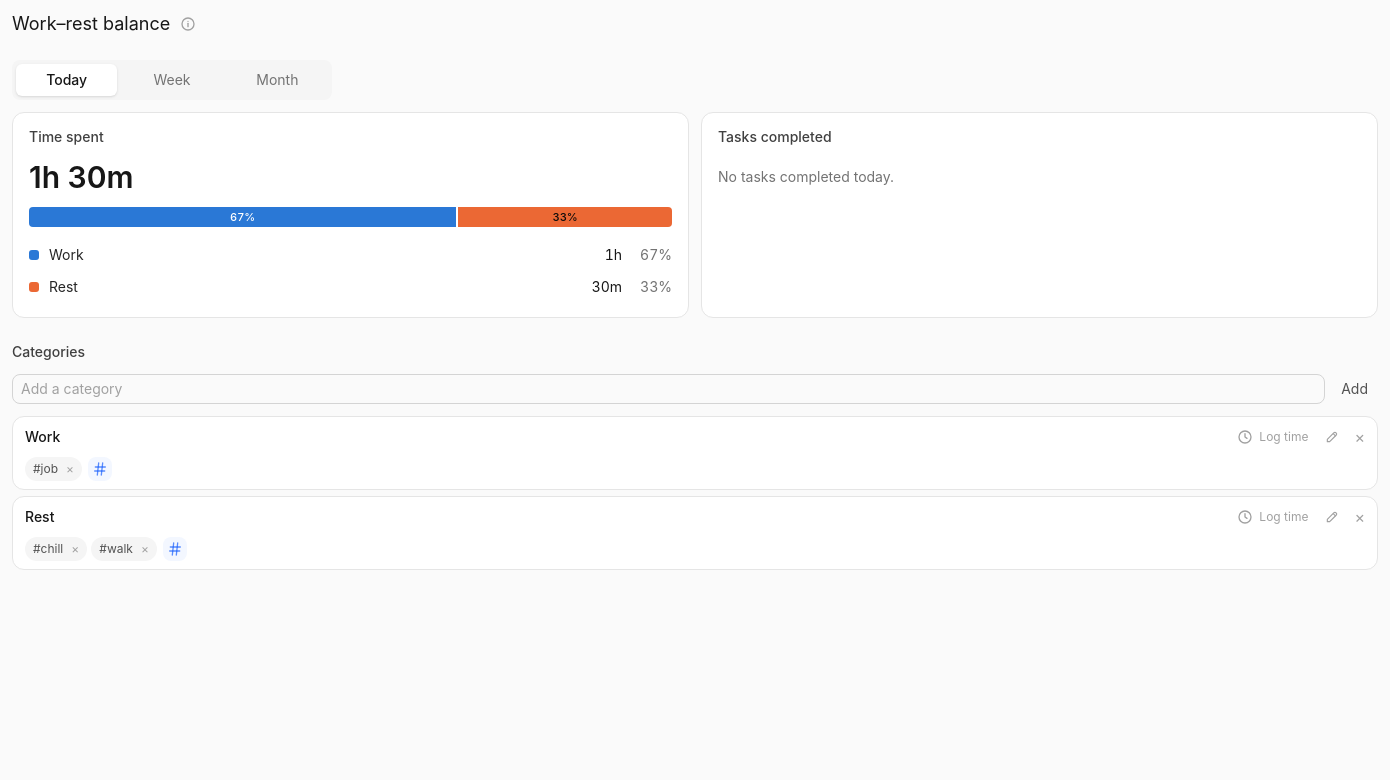
Test case: the sessions behind a piece (BAL-16) › lists nothing until a piece is pressed, and puts the list away when it is pressed again
The width and height of the screenshot is (1390, 780).
Expected: the element "Time logged to" is not shown
Hover over the button "Rest 30m 33%" at (607, 286), box [21,271,680,303]
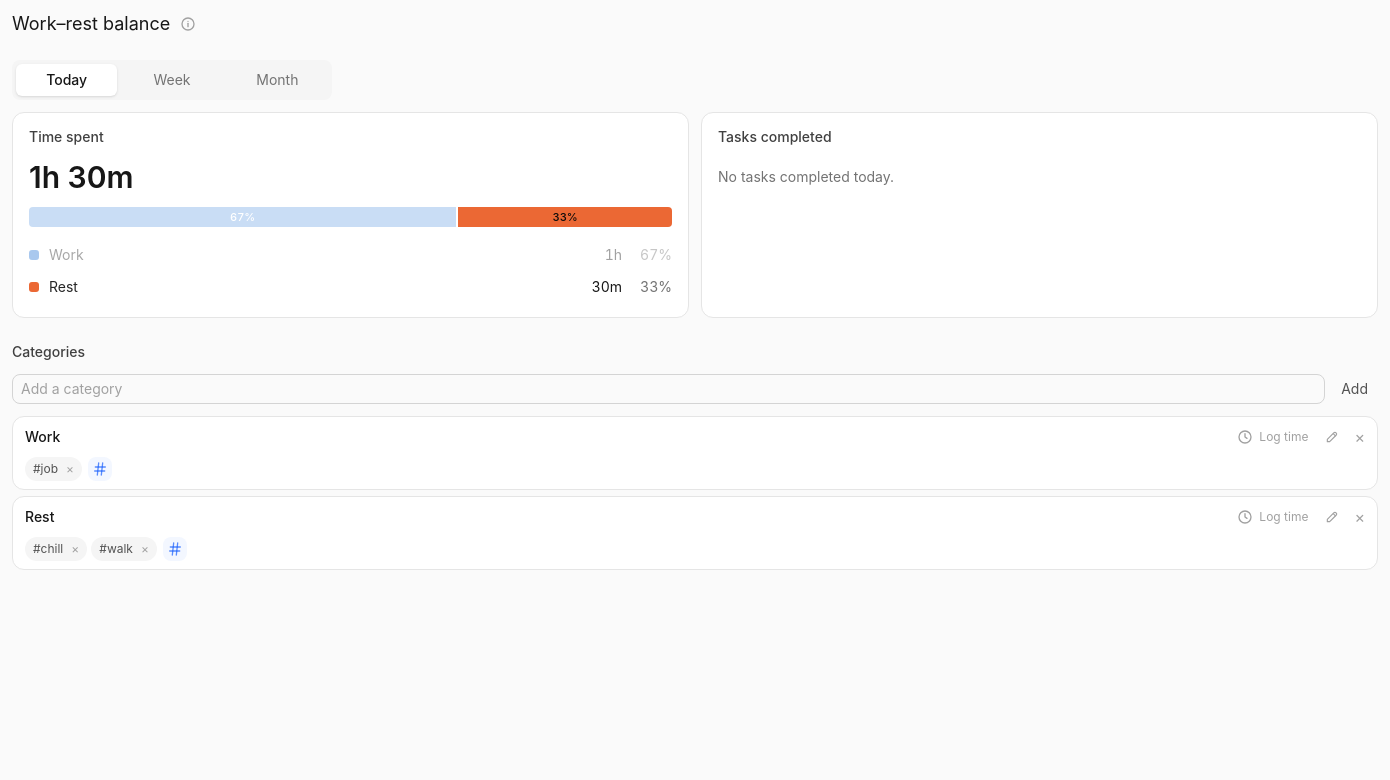
Expected: the list "Time logged to Rest" is not shown
Click the button "Rest 30m 33%" at (607, 286), box [21,271,680,303]
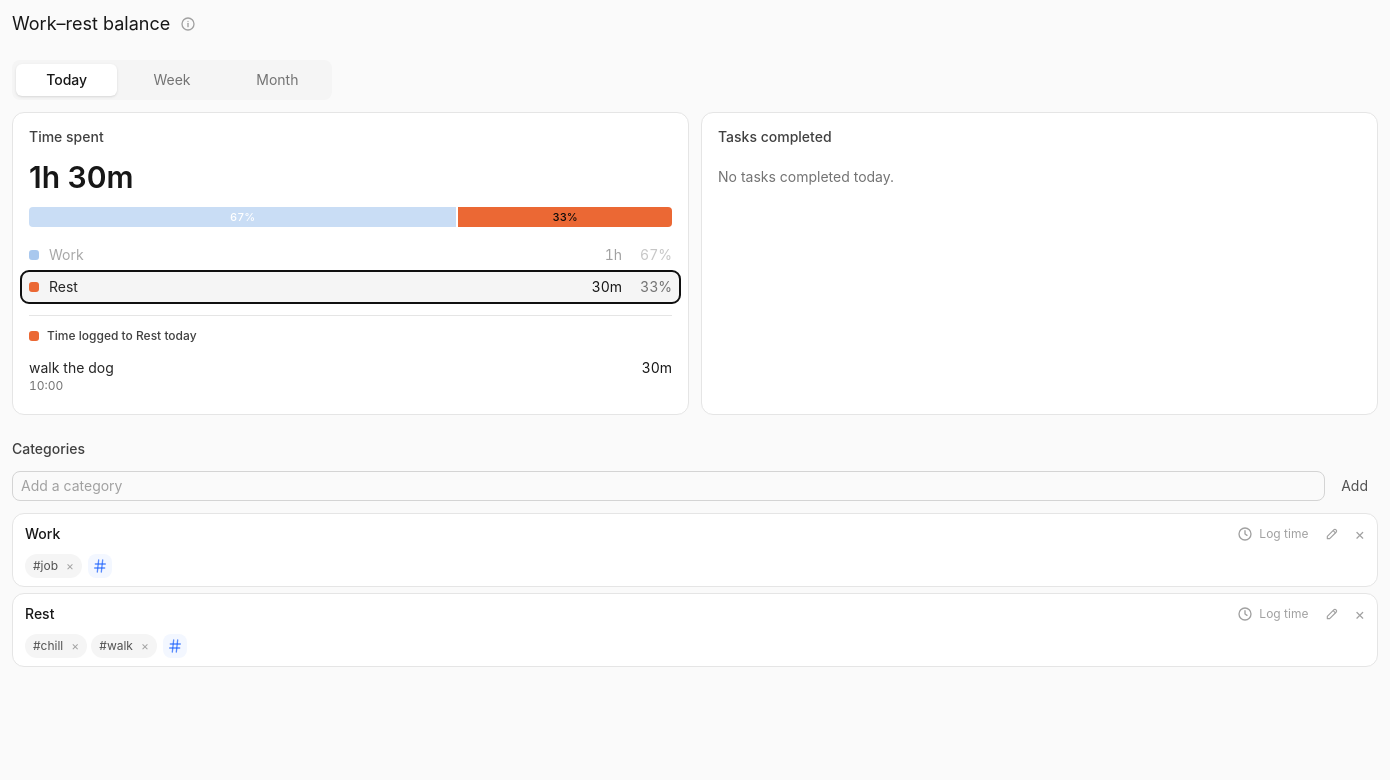
Now the heading "Time logged to Rest today" is shown, box [29,328,197,343]
Now the list items read "walk the dog10:0030m", in this order, box [21,352,680,400]
Click the button "Rest 30m 33%" at (607, 286), box [21,271,680,303]
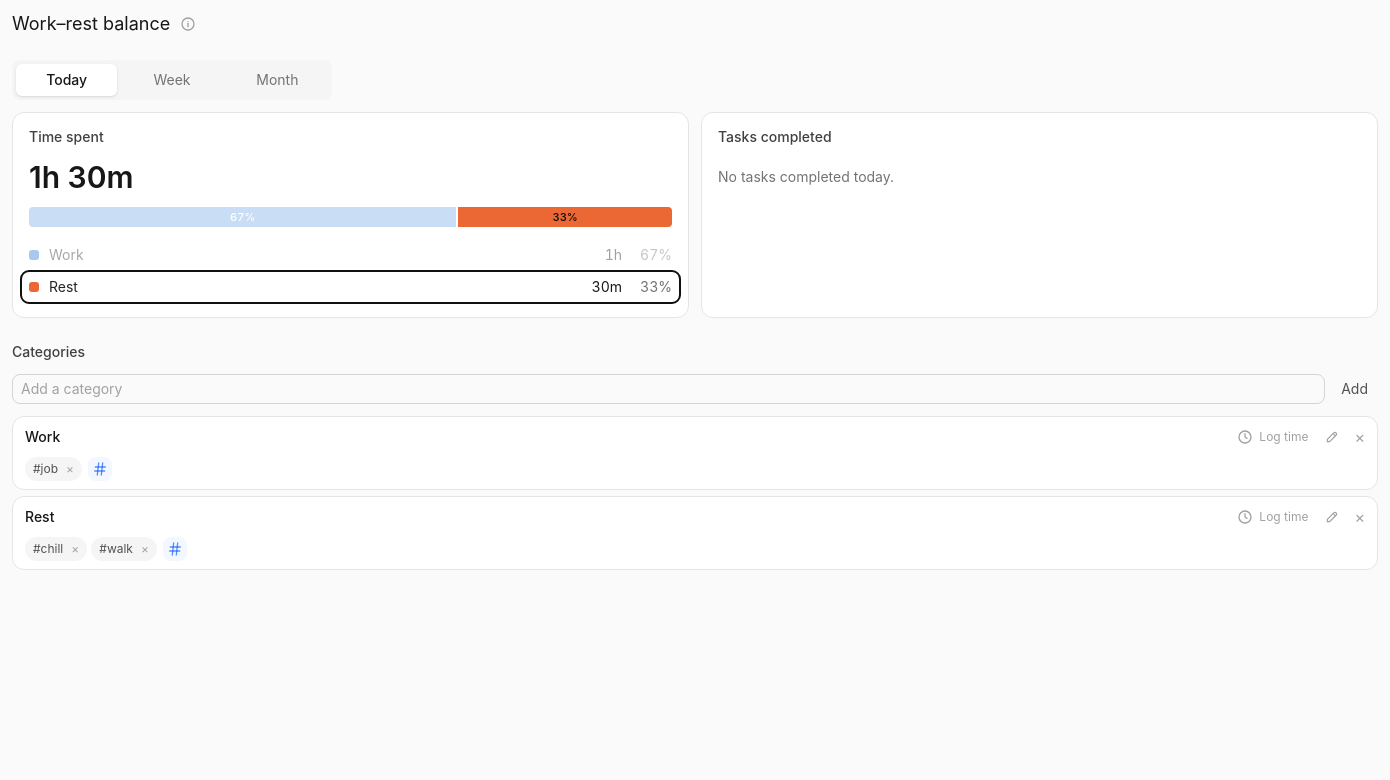
Now the heading "Time logged to Rest" is gone
